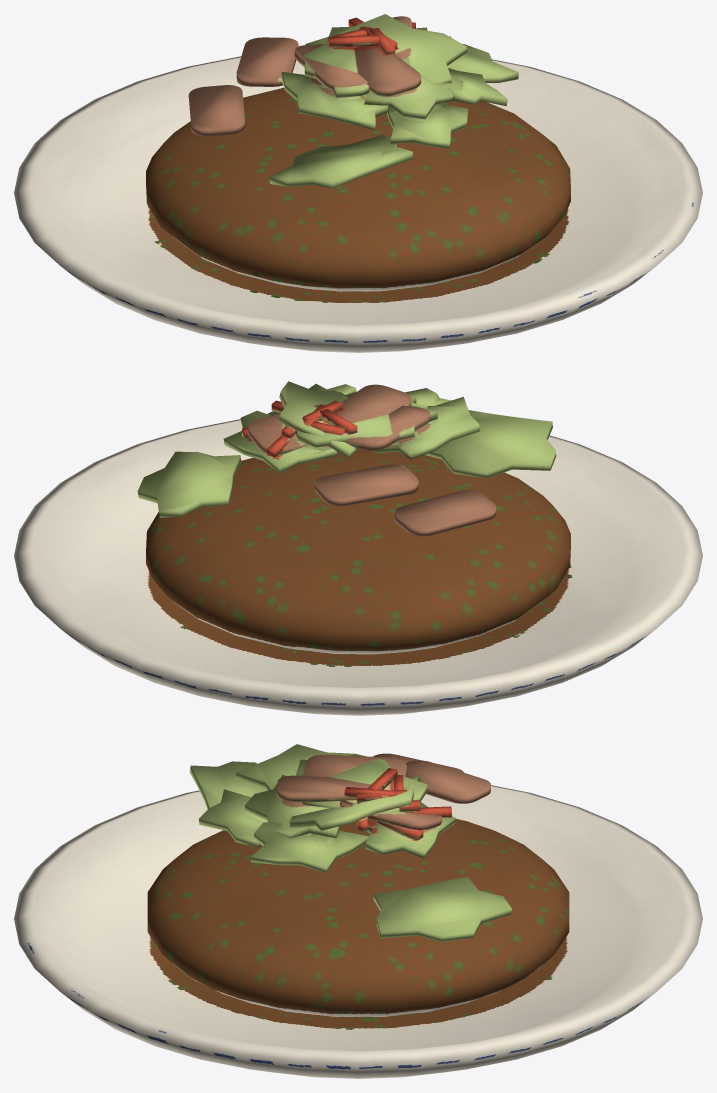
The model's file is yakisoba_nn0.glb.
3 views of the same model, one above another, from view 1: azimuth 30°, elevation 25°; view 2: azimuth 150°, elevation 25°; view 3: azimuth 270°, elevation 25° (orthographic).
Parts seen in each view (by area): view 1: prop_yakisoba_nn0_felt; view 2: prop_yakisoba_nn0_felt; view 3: prop_yakisoba_nn0_felt.
Part boxes in pixels (x1,y1,x2,y2): prop_yakisoba_nn0_felt: (14, 14, 702, 352); prop_yakisoba_nn0_felt: (14, 381, 702, 715); prop_yakisoba_nn0_felt: (14, 744, 702, 1078).
Size of the model in its own units: 0.306 by 0.0993 by 0.306.
1 material, 1 textured.
